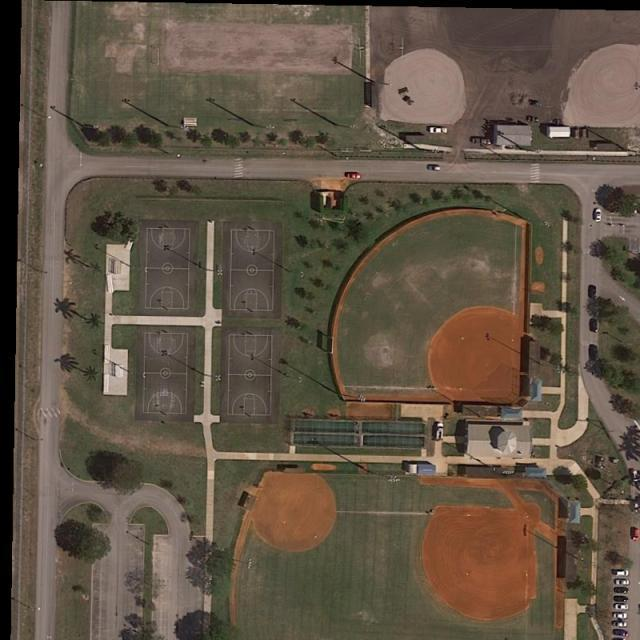vehicle: (470, 137, 492, 146), (435, 423, 445, 441), (430, 126, 448, 134), (614, 628, 630, 637), (614, 602, 630, 611), (614, 595, 630, 604), (590, 346, 599, 362), (614, 570, 630, 578), (590, 319, 599, 333), (614, 612, 629, 620), (615, 578, 630, 586), (614, 587, 630, 594), (632, 528, 640, 542), (630, 470, 639, 482), (427, 165, 442, 172), (631, 203, 639, 216), (594, 210, 602, 223), (589, 286, 597, 299), (613, 621, 627, 628), (347, 173, 362, 179), (612, 638, 626, 640)
